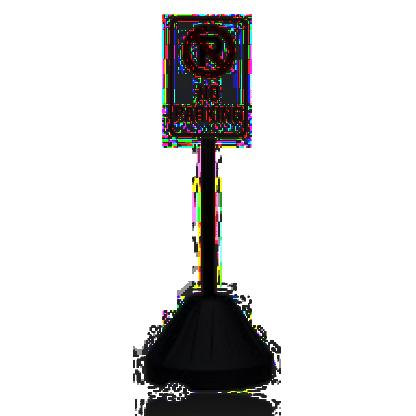No parking: (168, 19, 244, 83)
